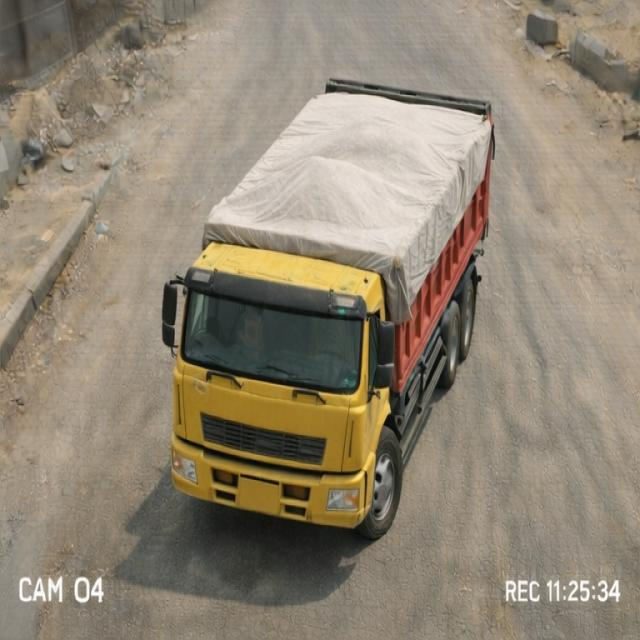trailer: (192, 76, 491, 252)
truck: (149, 69, 502, 549)
